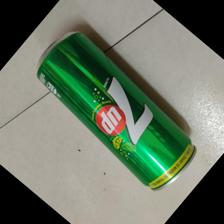7up: (35, 29, 198, 192)
